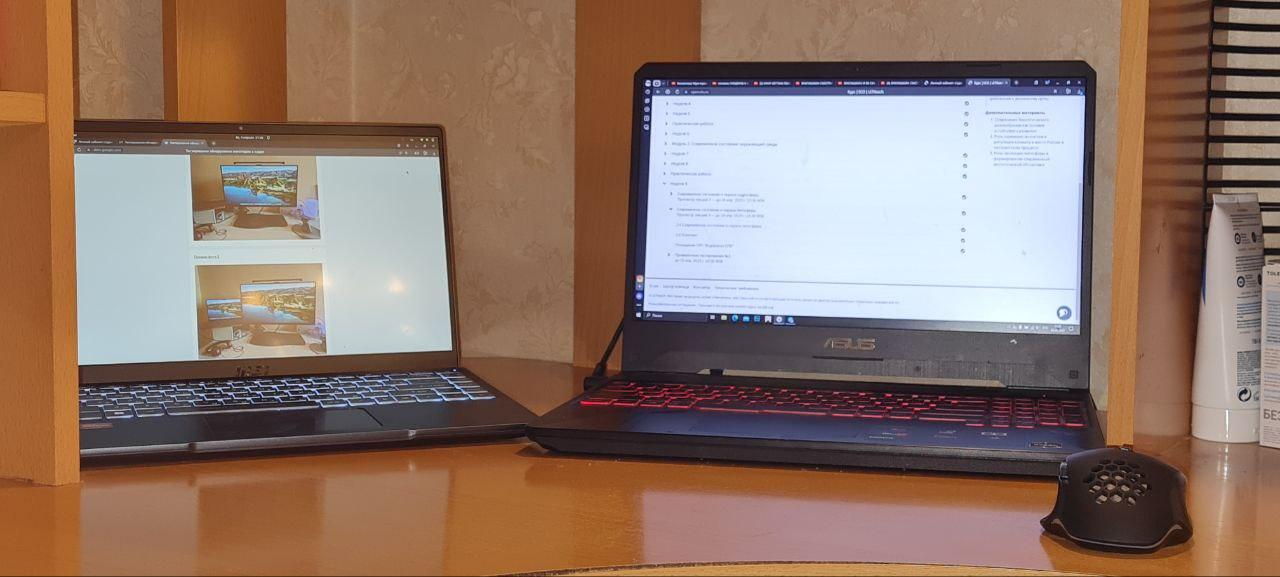monitor: (623, 60, 1099, 396), (45, 113, 465, 391)
